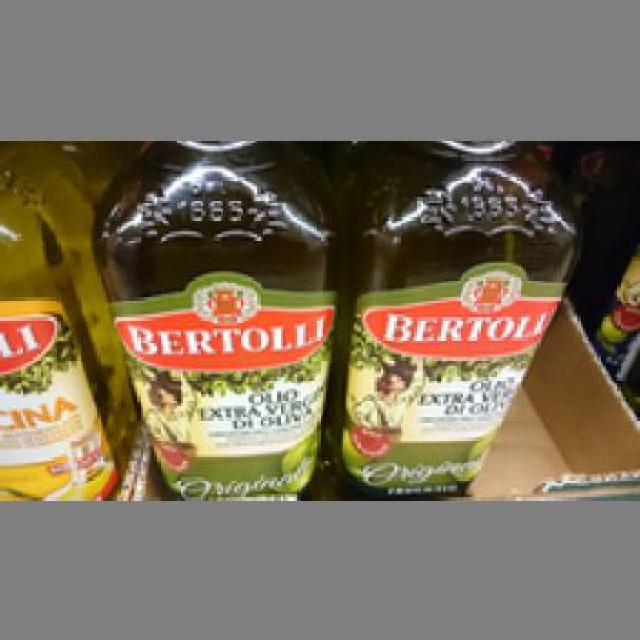Oil: (86, 134, 334, 494), (328, 137, 574, 494)
